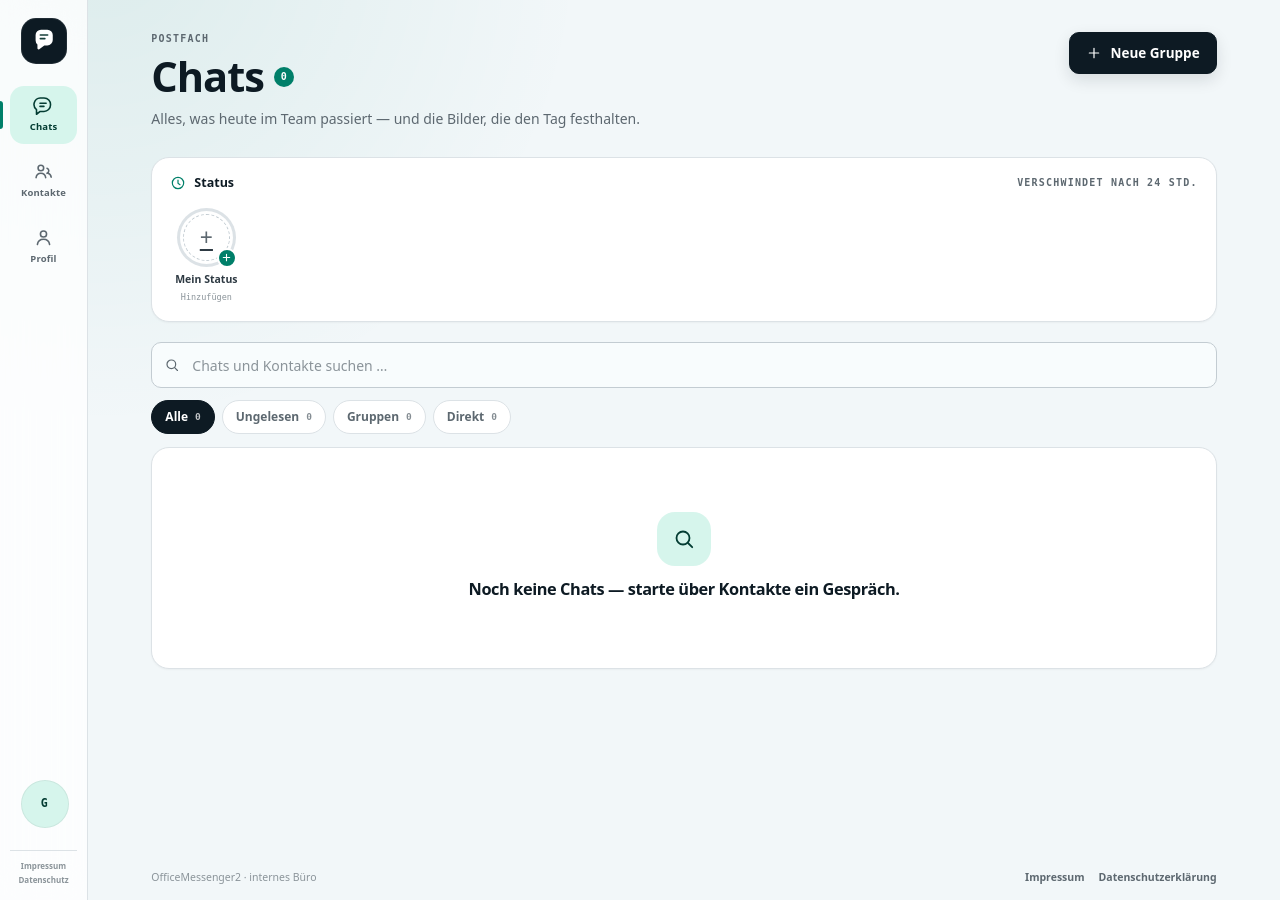
Test: ChatListPage › shows the search wording once a specific filter is chosen
Check: the heading "Noch keine Chats — starte über Kontakte ein Gespräch." is shown, box top-left (468, 581), bottom-right (899, 599)
Click the button "Ungelesen 0" at (274, 417), box top-left (222, 400), bottom-right (326, 434)
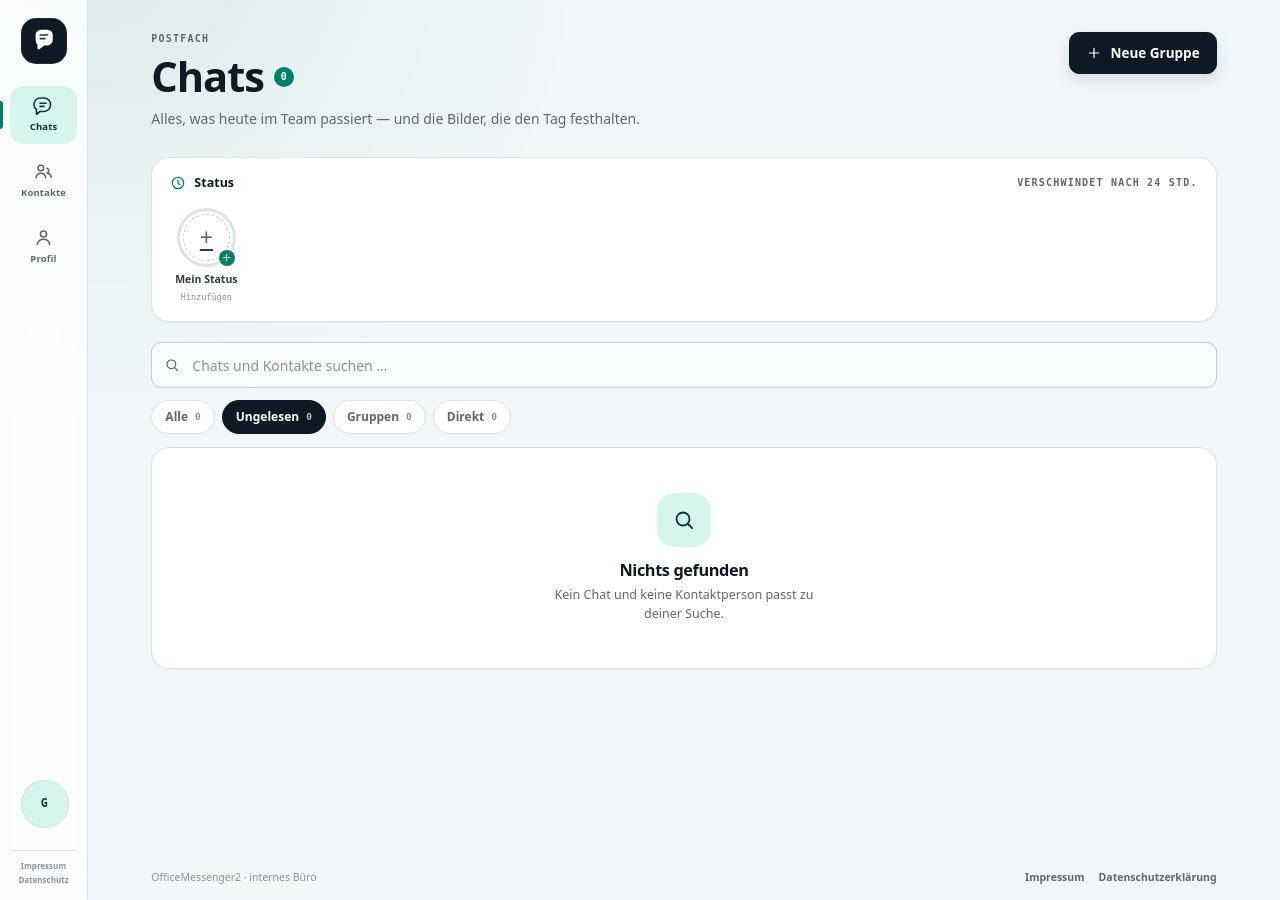
Check: the heading "Nichts gefunden" is shown, box top-left (620, 562), bottom-right (748, 580)
Check: the heading "Noch keine Chats — starte über Kontakte ein Gespräch." is gone
